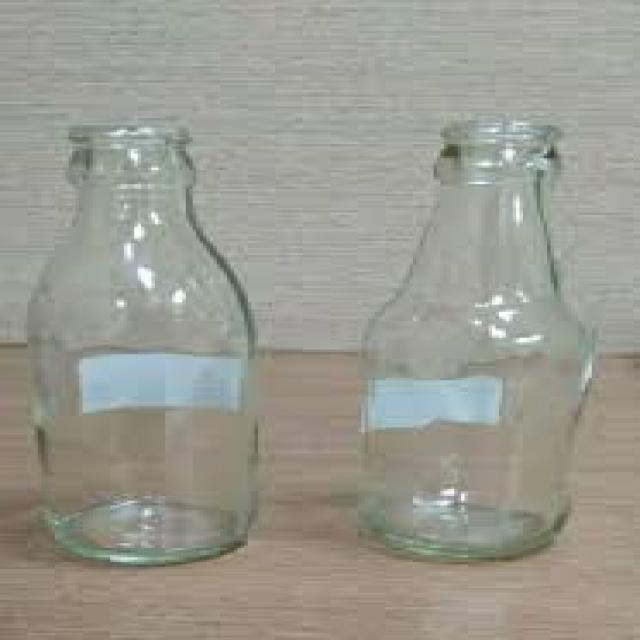Glass-Non-Biodegradable but Recyclable-: (350, 117, 603, 564), (24, 124, 262, 567)
